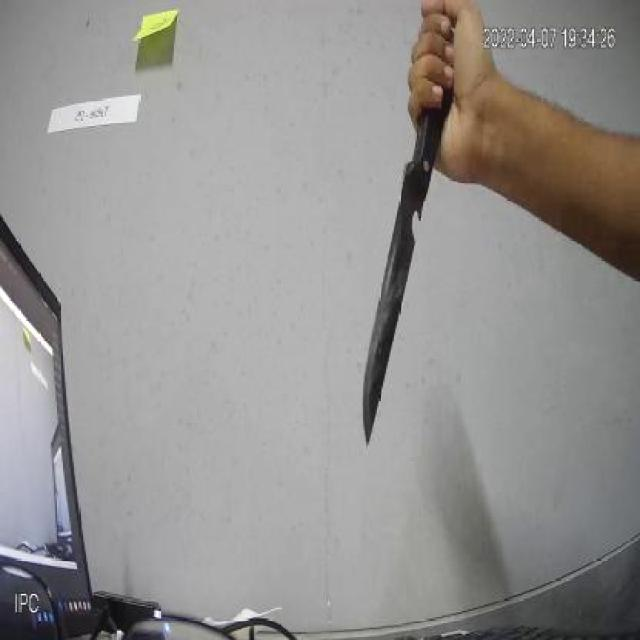knife: (361, 52, 457, 445)
